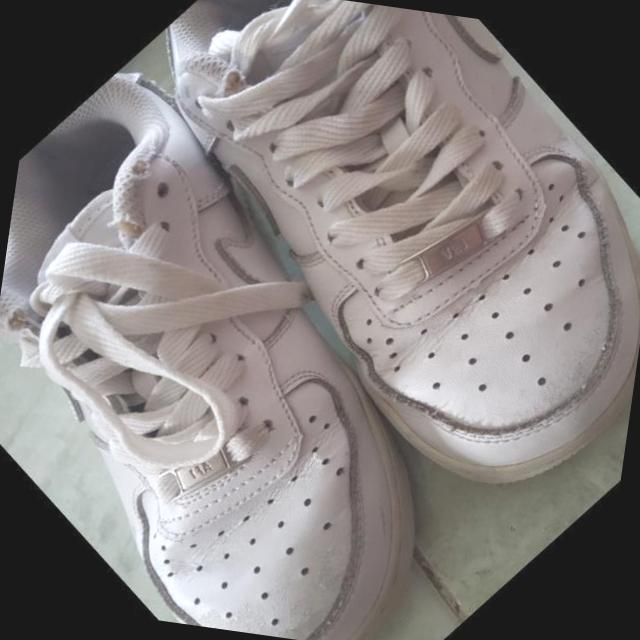nike_original_airforce: (0, 0, 640, 640), (0, 0, 523, 543)
